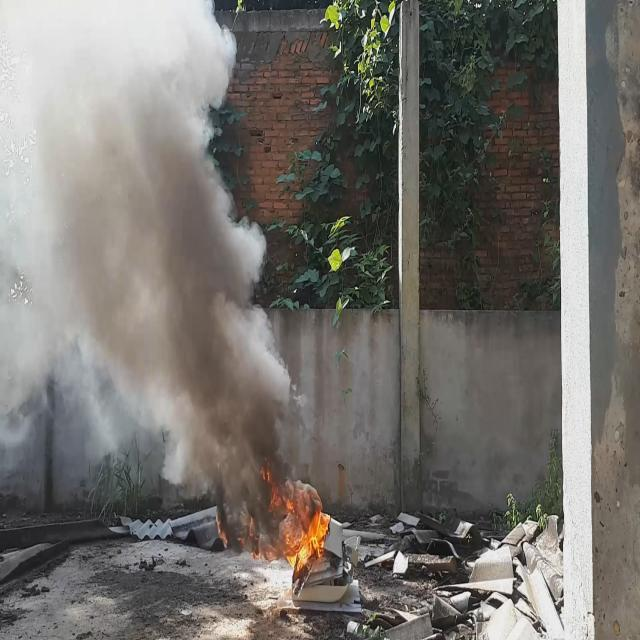Fire: (268, 474, 329, 572)
Smoke: (0, 0, 314, 553)
